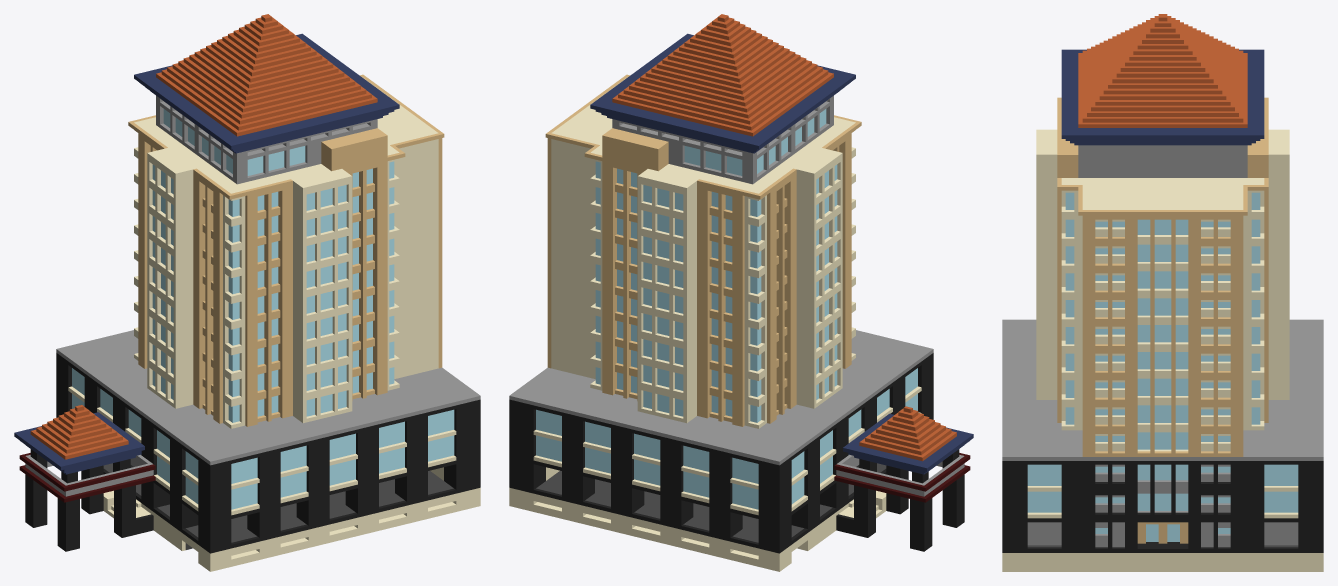
The model's file is gedung_f_-_filkom.glb.
The picture shows the model from 3 angles, left to right: view 1: azimuth 30°, elevation 25°; view 2: azimuth 150°, elevation 25°; view 3: azimuth 270°, elevation 25°; orthographic projection. The views are drawn at different scales.
Parts seen in each view (by area): view 1: Object_2; view 2: Object_2; view 3: Object_2.
Part boxes in pixels (bbox=[...]): Object_2: bbox=[14, 14, 480, 571]; Object_2: bbox=[509, 14, 973, 571]; Object_2: bbox=[1002, 14, 1323, 571].
Size of the model in its own units: 10.4 by 12.7 by 7.6.
Materials: 1 (1 with a texture image).
